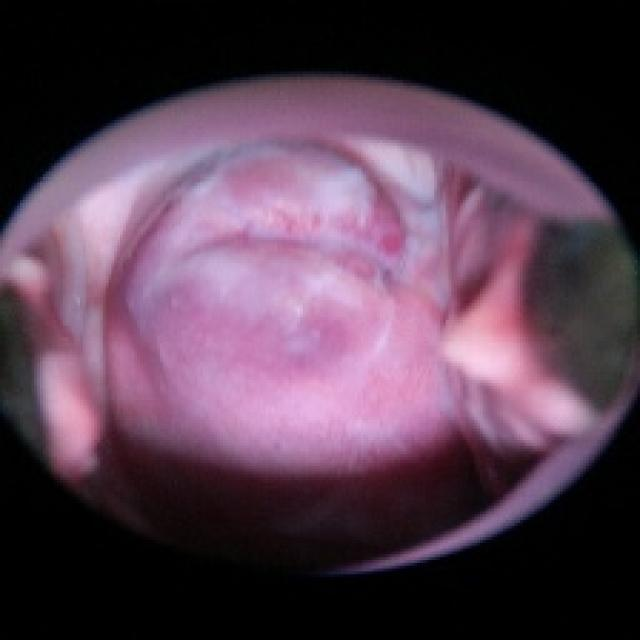type-2: (32, 157, 548, 553)
